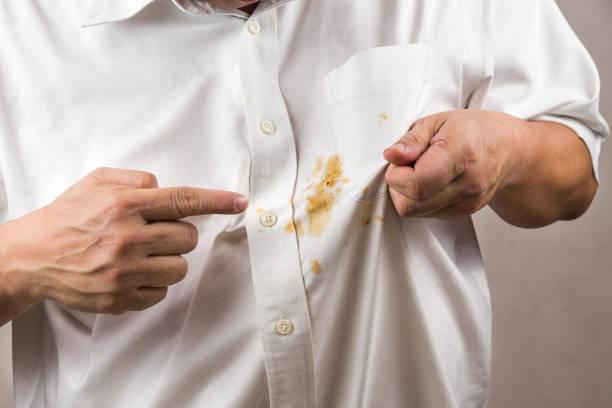gun: (302, 148, 347, 240), (377, 110, 394, 128), (312, 255, 323, 277)
